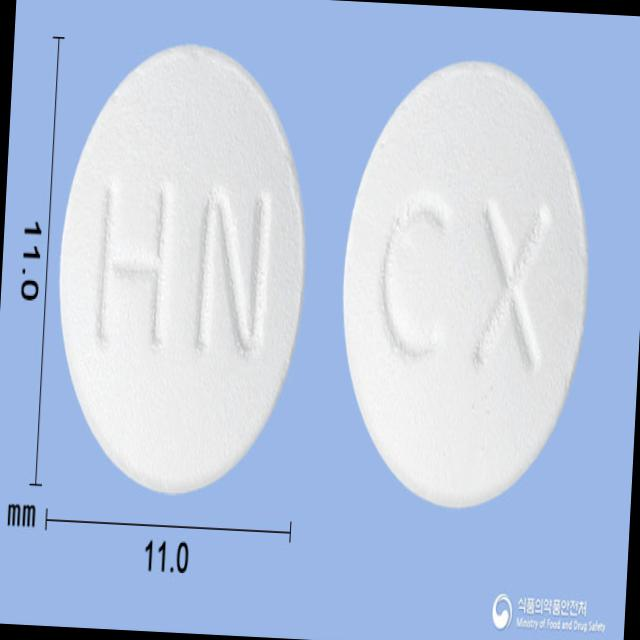Cipron: (328, 50, 606, 522), (44, 34, 320, 504)
